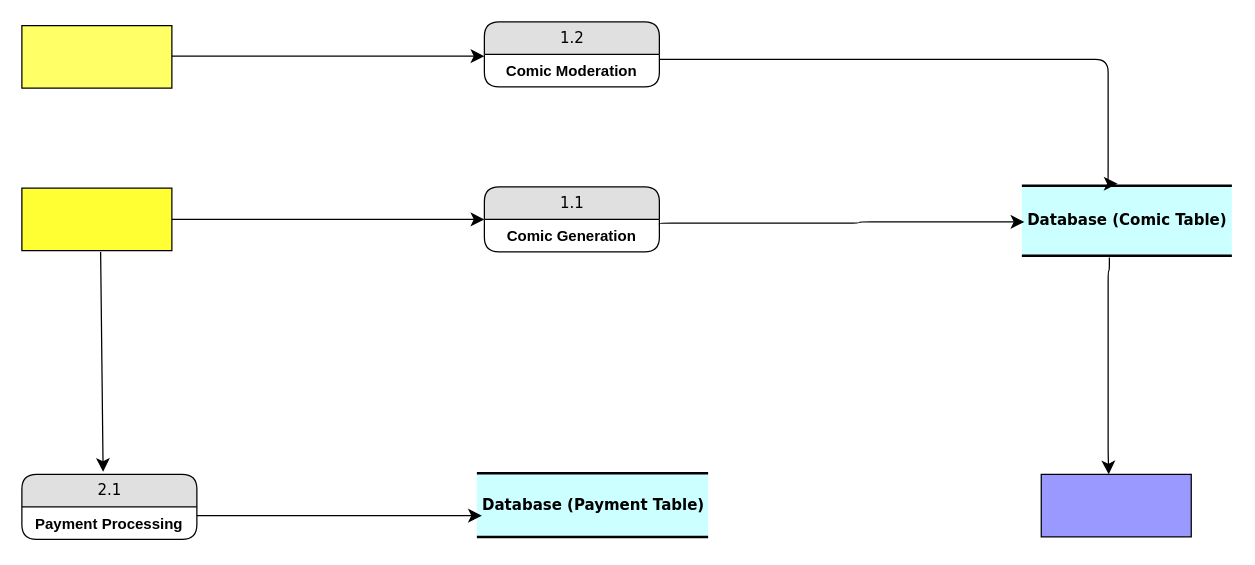
The diagram is 1255 pixels wide and 565 high, and some of its shapes have lost their labels. The shapes that lost their labels are listed below. From the top down, each one's centre as x and y in pixels, then its label:
At point (96, 56): "Admin".
At point (96, 219): "User".
At point (1115, 505): "System".
